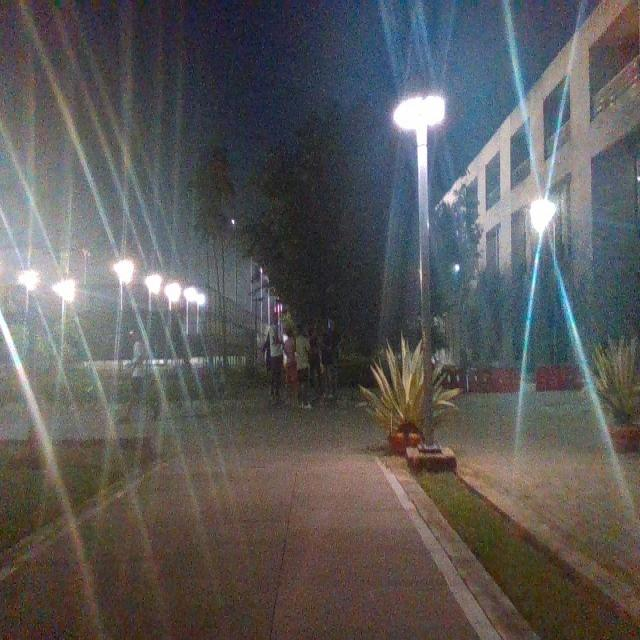lane: (2, 452, 483, 640)
